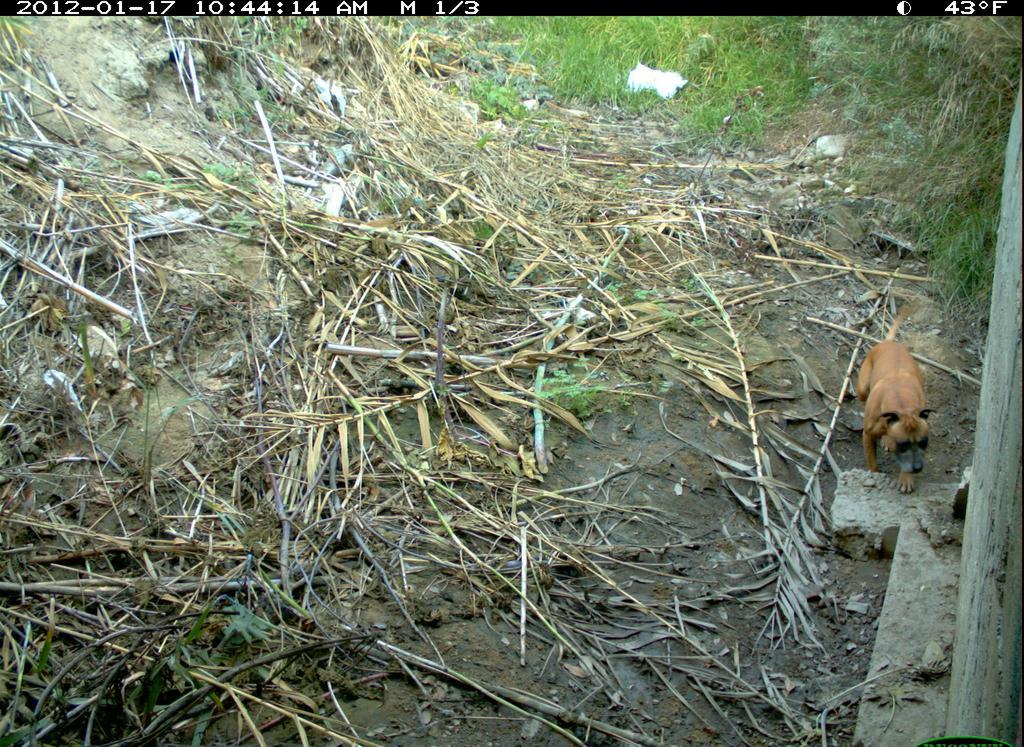dog: (848, 301, 941, 501)
